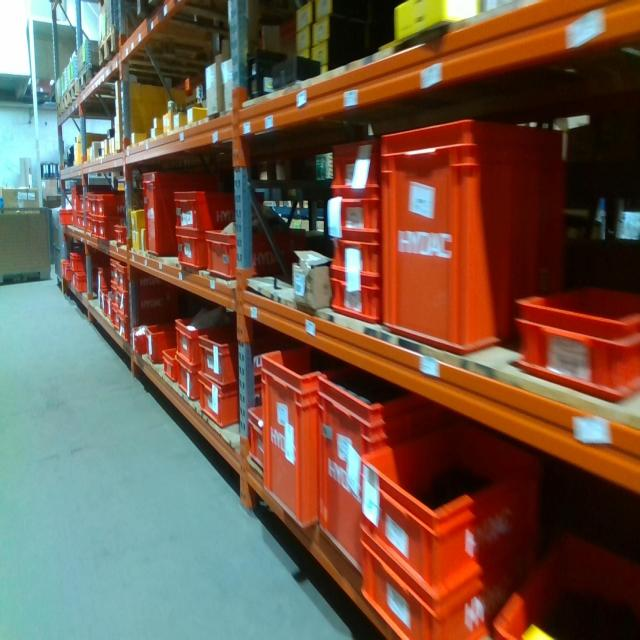pallet: (99, 26, 128, 69), (78, 69, 97, 95), (68, 79, 78, 111), (53, 98, 62, 125), (62, 93, 69, 117)
small_load_carrier: (379, 117, 568, 361), (356, 409, 542, 610), (319, 369, 439, 579), (359, 519, 536, 638), (498, 518, 640, 638), (260, 348, 349, 533), (510, 280, 639, 403), (143, 169, 220, 262), (206, 230, 298, 287), (171, 186, 265, 235), (199, 313, 262, 384), (199, 366, 261, 423), (328, 273, 385, 324), (328, 135, 382, 188), (328, 232, 385, 282), (328, 190, 382, 236), (244, 395, 267, 482), (118, 284, 176, 315), (114, 261, 174, 290), (171, 312, 202, 364), (176, 229, 208, 276), (178, 350, 202, 407), (146, 329, 177, 366), (94, 188, 136, 215), (122, 313, 152, 344), (70, 184, 88, 230), (161, 345, 182, 380), (96, 215, 116, 248), (131, 329, 148, 358), (113, 222, 137, 242), (55, 203, 74, 225), (74, 271, 93, 293), (70, 253, 93, 271), (109, 302, 121, 326), (101, 293, 112, 316), (86, 193, 96, 218), (61, 258, 71, 281), (82, 219, 93, 238), (109, 256, 117, 281), (90, 219, 98, 243), (110, 282, 120, 300), (79, 196, 85, 211)
stillage: (1, 201, 55, 285), (51, 206, 63, 288)
